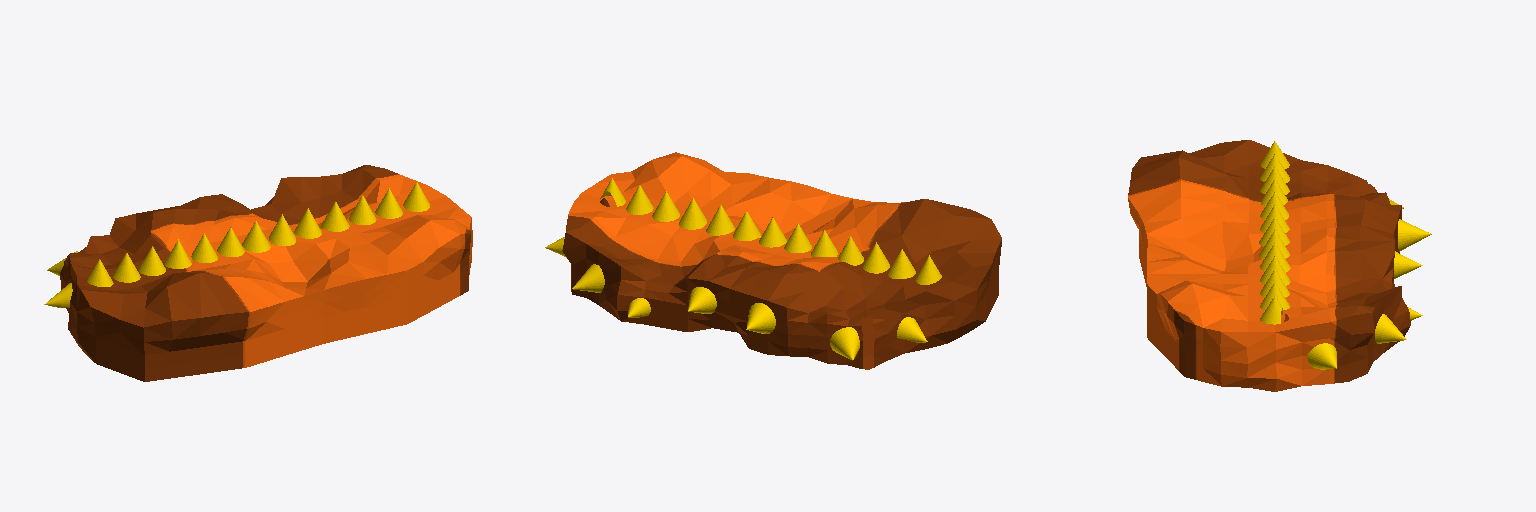
3 views of the same model, side by side, from view 1: azimuth 30°, elevation 25°; view 2: azimuth 150°, elevation 25°; view 3: azimuth 270°, elevation 25° (orthographic).
Parts seen in each view (by area): view 1: 平面.001; view 2: 平面.001; view 3: 平面.001.
Boxes of the visible parts, box(x1,y1,x2,y2) form: 平面.001: box(44, 165, 472, 381); 平面.001: box(545, 152, 1001, 369); 平面.001: box(1128, 140, 1431, 391).
Bounding box in the file's own units: 3.94 × 0.8997 × 2.67.
Materials: 1 (1 with a texture image).